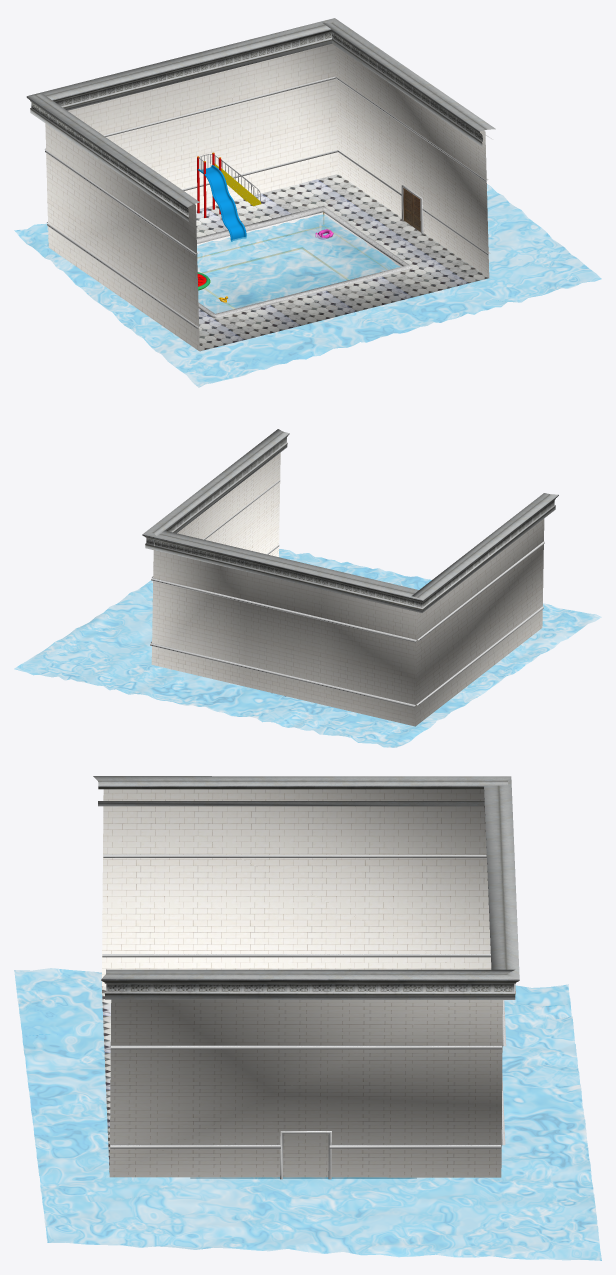
File: DaPoolroom.glb
3 views of the same model, one above another, from view 1: azimuth 30°, elevation 25°; view 2: azimuth 150°, elevation 25°; view 3: azimuth 270°, elevation 25° (orthographic). The views are drawn at different scales.
Parts seen in each view (by area): view 1: âJâXâ^âÇÅ¡Åù_mesh.006, PlaneShape_0.001, âJâXâ^âÇÅ¡Åù_mesh.001, âJâXâ^âÇÅ¡Åù_mesh.012, âJâXâ^âÇÅ¡Åù_mesh.010, âJâXâ^âÇÅ¡Åù_mesh.009, âJâXâ^âÇÅ¡Åù_mesh.016, NurbsPath_1, âJâXâ^âÇÅ¡Åù_mesh.017, âJâXâ^âÇÅ¡Åù_mesh.019, âJâXâ^âÇÅ¡Åù_mesh; view 2: âJâXâ^âÇÅ¡Åù_mesh.006, PlaneShape_0.001, âJâXâ^âÇÅ¡Åù_mesh.012, âJâXâ^âÇÅ¡Åù_mesh.016, âJâXâ^âÇÅ¡Åù_mesh.017; view 3: âJâXâ^âÇÅ¡Åù_mesh.006, PlaneShape_0.001, âJâXâ^âÇÅ¡Åù_mesh.012, âJâXâ^âÇÅ¡Åù_mesh.017, âJâXâ^âÇÅ¡Åù_mesh.016, âJâXâ^âÇÅ¡Åù_mesh.001.
Boxes of the visible parts, x1,y1,x2,y2 form: âJâXâ^âÇÅ¡Åù_mesh.006: (45,44,489,351); PlaneShape_0.001: (14,184,601,387); âJâXâ^âÇÅ¡Åù_mesh.001: (196,174,488,351); âJâXâ^âÇÅ¡Åù_mesh.012: (26,18,495,221); âJâXâ^âÇÅ¡Åù_mesh.010: (197,212,401,313); âJâXâ^âÇÅ¡Åù_mesh.009: (196,206,412,318); âJâXâ^âÇÅ¡Åù_mesh.016: (45,76,488,255); NurbsPath_1: (198,165,246,241); âJâXâ^âÇÅ¡Åù_mesh.017: (47,150,490,329); âJâXâ^âÇÅ¡Åù_mesh.019: (197,212,387,308); âJâXâ^âÇÅ¡Åù_mesh: (403,188,420,231); âJâXâ^âÇÅ¡Åù_mesh.006: (151,453,544,726); PlaneShape_0.001: (14,549,601,747); âJâXâ^âÇÅ¡Åù_mesh.012: (142,429,558,612); âJâXâ^âÇÅ¡Åù_mesh.016: (151,479,544,642); âJâXâ^âÇÅ¡Åù_mesh.017: (150,545,543,707); âJâXâ^âÇÅ¡Åù_mesh.006: (102,789,502,1177); PlaneShape_0.001: (14,968,601,1260); âJâXâ^âÇÅ¡Åù_mesh.012: (93,776,519,999); âJâXâ^âÇÅ¡Åù_mesh.017: (102,954,505,1148); âJâXâ^âÇÅ¡Åù_mesh.016: (103,854,506,1049); âJâXâ^âÇÅ¡Åù_mesh.001: (102,986,111,1172).
Size of the model in its own units: 54.08 by 20.78 by 47.04.
Materials: 23 (18 with a texture image).
